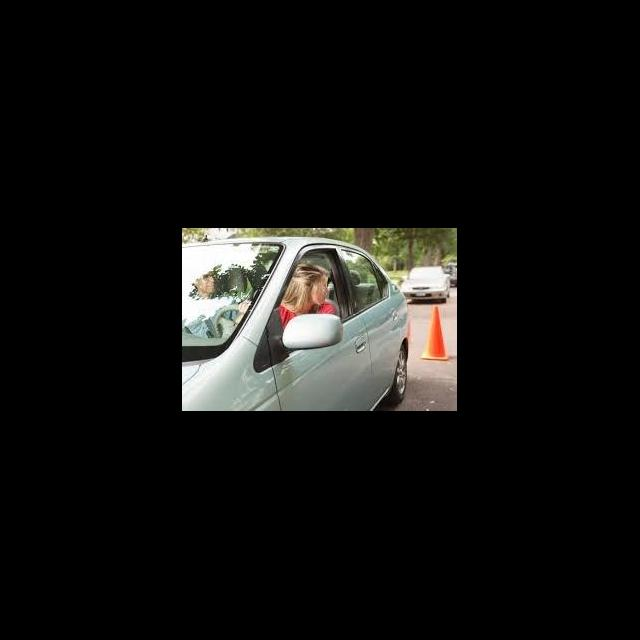NO-Hardhat: (294, 265, 331, 284)
NO-Mask: (310, 292, 326, 305), (201, 284, 219, 294)
Person: (238, 265, 337, 328), (187, 263, 237, 337)
Safety Cone: (422, 306, 449, 362), (407, 306, 414, 341)
sedan: (183, 237, 409, 412), (402, 266, 452, 305), (441, 264, 457, 287)
